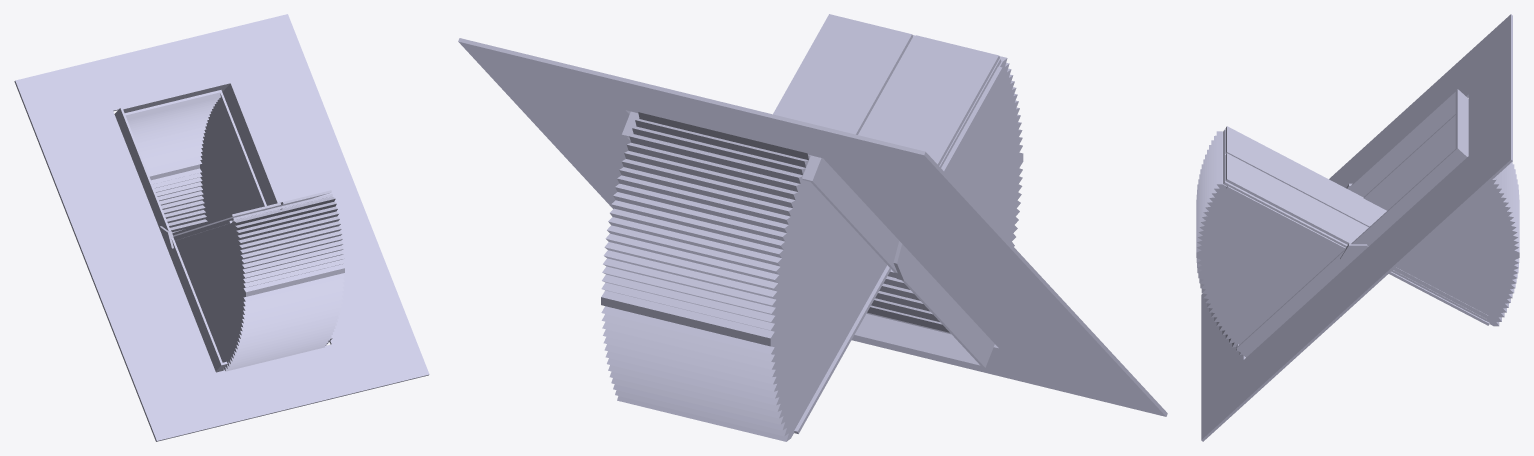
File: RoofDock_-30deg.glb
The picture shows the model from 3 angles, left to right: view 1: azimuth 30°, elevation 25°; view 2: azimuth 150°, elevation 25°; view 3: azimuth 270°, elevation 25°; orthographic projection. The views are drawn at different scales.
Parts seen in each view (by area): view 1: copy_Body021, copy_Body023, copy_Body022, copy_Body, copy_LinkGroup004; view 2: copy_Body022, copy_Body021, copy_LinkGroup004, copy_Body023, copy_Body, copy_LinkGroup003; view 3: copy_Body021, copy_Body023, copy_Body022, copy_LinkGroup004, copy_Body, copy_LinkGroup003, copy_Body001.
Boxes of the visible parts, <box> form: copy_Body021: <box>14,14,429,441</box>; copy_Body023: <box>175,197,344,371</box>; copy_Body022: <box>125,90,266,232</box>; copy_Body: <box>114,80,332,372</box>; copy_LinkGroup004: <box>172,190,332,238</box>; copy_Body022: <box>601,112,886,441</box>; copy_Body021: <box>458,38,1167,416</box>; copy_LinkGroup004: <box>773,14,1001,167</box>; copy_Body023: <box>866,35,1023,334</box>; copy_Body: <box>622,111,994,367</box>; copy_LinkGroup003: <box>794,66,1003,433</box>; copy_Body021: <box>1201,14,1512,441</box>; copy_Body023: <box>1196,131,1343,354</box>; copy_Body022: <box>1363,114,1519,326</box>; copy_LinkGroup004: <box>1223,126,1488,320</box>; copy_Body: <box>1236,89,1468,357</box>; copy_LinkGroup003: <box>1226,186,1489,325</box>; copy_Body001: <box>1340,243,1368,267</box>.
Size of the model in its own units: 1.68 by 1.52 by 1.57.
